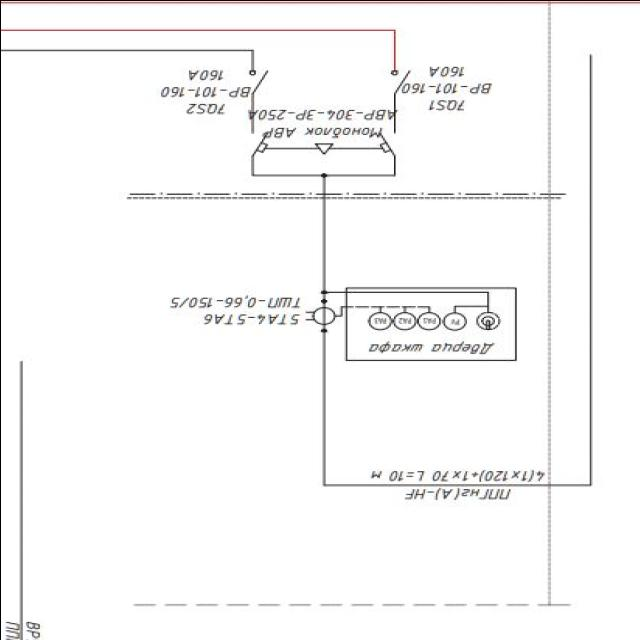-: (400, 59, 493, 99), (154, 64, 252, 100), (162, 291, 304, 311)
AVR: (242, 105, 396, 141), (243, 130, 399, 158)
PA: (368, 310, 392, 330), (416, 312, 440, 331), (392, 311, 416, 329)
PV: (440, 310, 468, 330)
QS: (244, 66, 269, 94), (388, 66, 412, 95)
TT: (304, 303, 336, 329)
